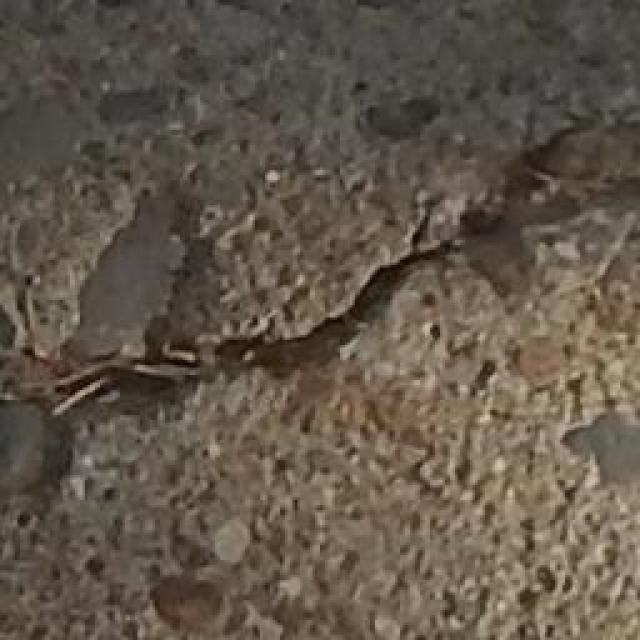concrete-crack: (0, 114, 640, 444)
